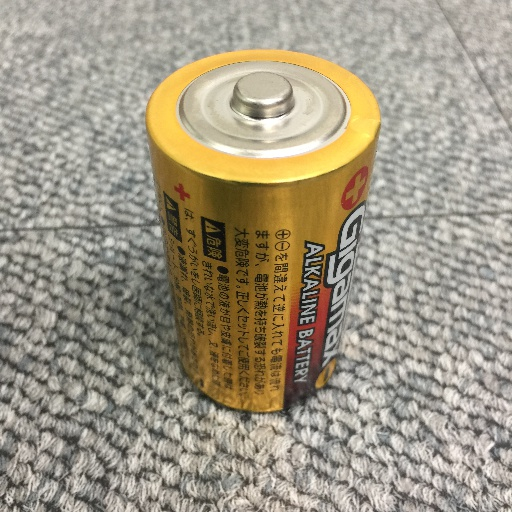Battery_0: (133, 33, 396, 423)
